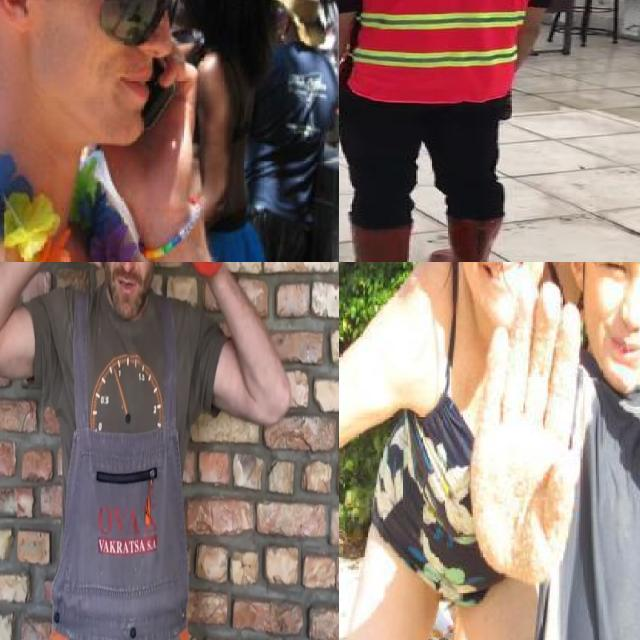Ear-protection: (84, 262, 179, 309)
No_Ear-Protection: (0, 0, 38, 31)
boots: (428, 218, 503, 262), (339, 221, 412, 262)
face_nomask: (97, 0, 180, 108), (598, 262, 640, 362), (450, 262, 555, 289)
glasses: (0, 0, 182, 52)
hand_noglove: (463, 283, 590, 591)
person: (378, 262, 569, 640), (0, 0, 252, 262), (339, 0, 566, 262), (508, 262, 640, 640)
vest: (345, 0, 553, 106)
